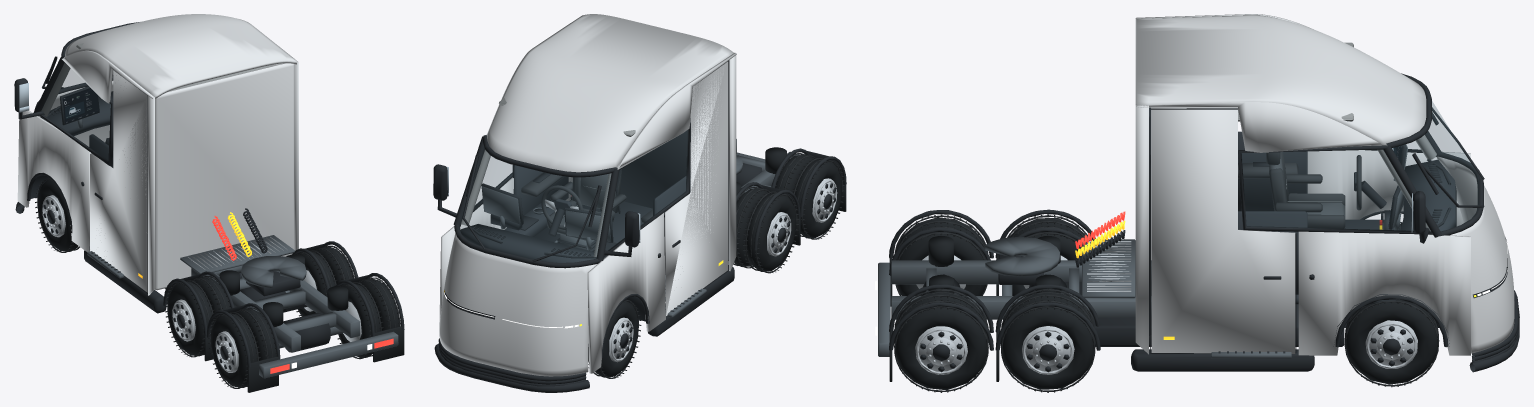
The model's file is semi_low.glb.
The picture shows the model from 3 angles, left to right: view 1: azimuth 30°, elevation 25°; view 2: azimuth 150°, elevation 25°; view 3: azimuth 270°, elevation 25°; orthographic projection. The views are drawn at different scales.
Visible parts, largest first — view 1: Chassis__Semi_Pearl_White, DoorPivot_L__Semi_Pearl_White, Chassis__Semi_Exterior_Graphite, Chassis__Semi_Chassis_Steel, Chassis__Semi_Tire_Rubber, Chassis__Semi_Laminated_Glass, WheelSpin_RL__Semi_Tire_Rubber, WheelSpin_ML__Semi_Tire_Rubber, WheelSpin_RR__Semi_Tire_Rubber, FifthWheelPivot__Semi_Chassis_Steel, WheelSpin_MR__Semi_Tire_Rubber, Chassis__Semi_Interior_Charcoal (+14 smaller); view 2: Chassis__Semi_Pearl_White, Chassis__Semi_Laminated_Glass, Chassis__Semi_Exterior_Graphite, DoorPivot_L__Semi_Pearl_White, Chassis__Semi_Interior_Charcoal, WheelSpin_ML__Semi_Tire_Rubber, WheelSpin_RL__Semi_Tire_Rubber, DoorPivot_L__Semi_Laminated_Glass, WheelSpin_FL__Semi_Tire_Rubber, WheelSpin_ML__Semi_Tread_Rubber, Chassis__Semi_Headliner, DoorPivot_R__Semi_Interior_Charcoal (+13 smaller); view 3: Chassis__Semi_Pearl_White, DoorPivot_R__Semi_Pearl_White, Chassis__Semi_Exterior_Graphite, Chassis__Semi_Laminated_Glass, Chassis__Semi_Chassis_Steel, WheelSpin_RR__Semi_Tire_Rubber, WheelSpin_MR__Semi_Tire_Rubber, WheelSpin_FR__Semi_Tire_Rubber, DoorPivot_R__Semi_Laminated_Glass, Chassis__Semi_Interior_Charcoal, DriverSeat__Semi_Seat_Bolster, FifthWheelPivot__Semi_Chassis_Steel (+19 smaller).
Part boxes in pixels (x1,y1,x2,y2): Chassis__Semi_Pearl_White: (17, 14, 298, 295); DoorPivot_L__Semi_Pearl_White: (90, 70, 147, 292); Chassis__Semi_Exterior_Graphite: (14, 22, 404, 367); Chassis__Semi_Chassis_Steel: (87, 235, 398, 378); Chassis__Semi_Tire_Rubber: (108, 142, 404, 392); Chassis__Semi_Laminated_Glass: (41, 63, 93, 148); WheelSpin_RL__Semi_Tire_Rubber: (211, 308, 276, 387); WheelSpin_ML__Semi_Tire_Rubber: (167, 277, 230, 356); WheelSpin_RR__Semi_Tire_Rubber: (338, 278, 399, 357); FifthWheelPivot__Semi_Chassis_Steel: (241, 256, 306, 287); WheelSpin_MR__Semi_Tire_Rubber: (298, 247, 353, 316); Chassis__Semi_Interior_Charcoal: (30, 91, 113, 198); Chassis__Semi_Pearl_White: (439, 14, 736, 376); Chassis__Semi_Laminated_Glass: (458, 146, 663, 262); Chassis__Semi_Exterior_Graphite: (433, 60, 846, 392); DoorPivot_L__Semi_Pearl_White: (664, 61, 727, 315); Chassis__Semi_Interior_Charcoal: (460, 118, 690, 321); WheelSpin_ML__Semi_Tire_Rubber: (734, 188, 796, 271); WheelSpin_RL__Semi_Tire_Rubber: (775, 154, 842, 238); DoorPivot_L__Semi_Laminated_Glass: (662, 130, 687, 207); WheelSpin_FL__Semi_Tire_Rubber: (595, 301, 638, 377); WheelSpin_ML__Semi_Tread_Rubber: (733, 186, 798, 273); Chassis__Semi_Headliner: (461, 98, 635, 256); DoorPivot_R__Semi_Interior_Charcoal: (512, 165, 568, 215); Chassis__Semi_Pearl_White: (1135, 14, 1514, 355); DoorPivot_R__Semi_Pearl_White: (1151, 107, 1295, 353); Chassis__Semi_Exterior_Graphite: (889, 73, 1519, 372); Chassis__Semi_Laminated_Glass: (1296, 101, 1478, 231); Chassis__Semi_Chassis_Steel: (878, 239, 1291, 358); WheelSpin_RR__Semi_Tire_Rubber: (895, 291, 988, 390); WheelSpin_MR__Semi_Tire_Rubber: (1001, 291, 1095, 389); WheelSpin_FR__Semi_Tire_Rubber: (1346, 299, 1439, 384); DoorPivot_R__Semi_Laminated_Glass: (1242, 152, 1294, 227); Chassis__Semi_Interior_Charcoal: (1149, 107, 1456, 346); DriverSeat__Semi_Seat_Bolster: (1266, 152, 1345, 228); FifthWheelPivot__Semi_Chassis_Steel: (985, 236, 1059, 276).
Size of the model in its own units: 3.27 by 3.85 by 7.67.
Materials: 20 (2 with a texture image).
